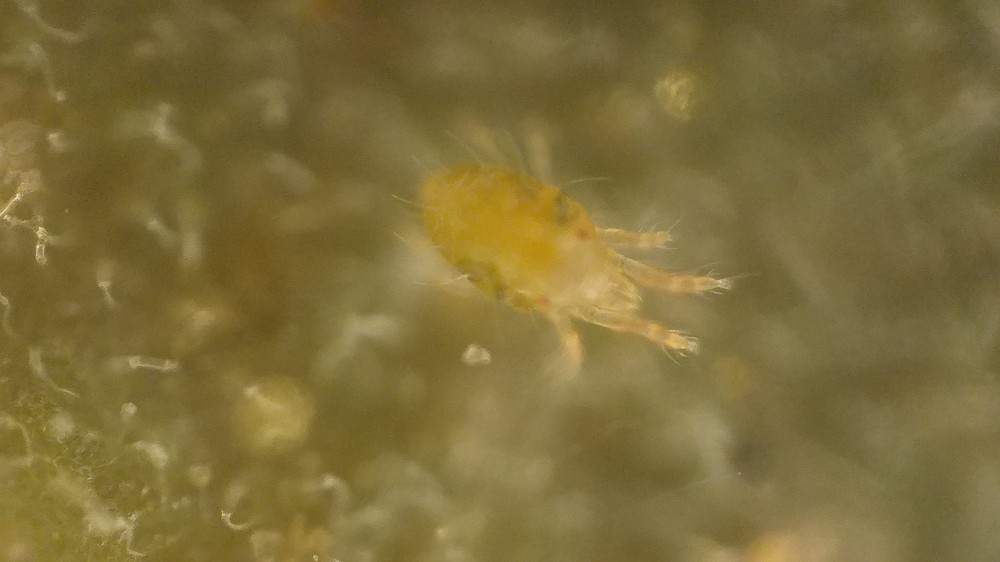Aracnido Rojo: (383, 100, 761, 407)
